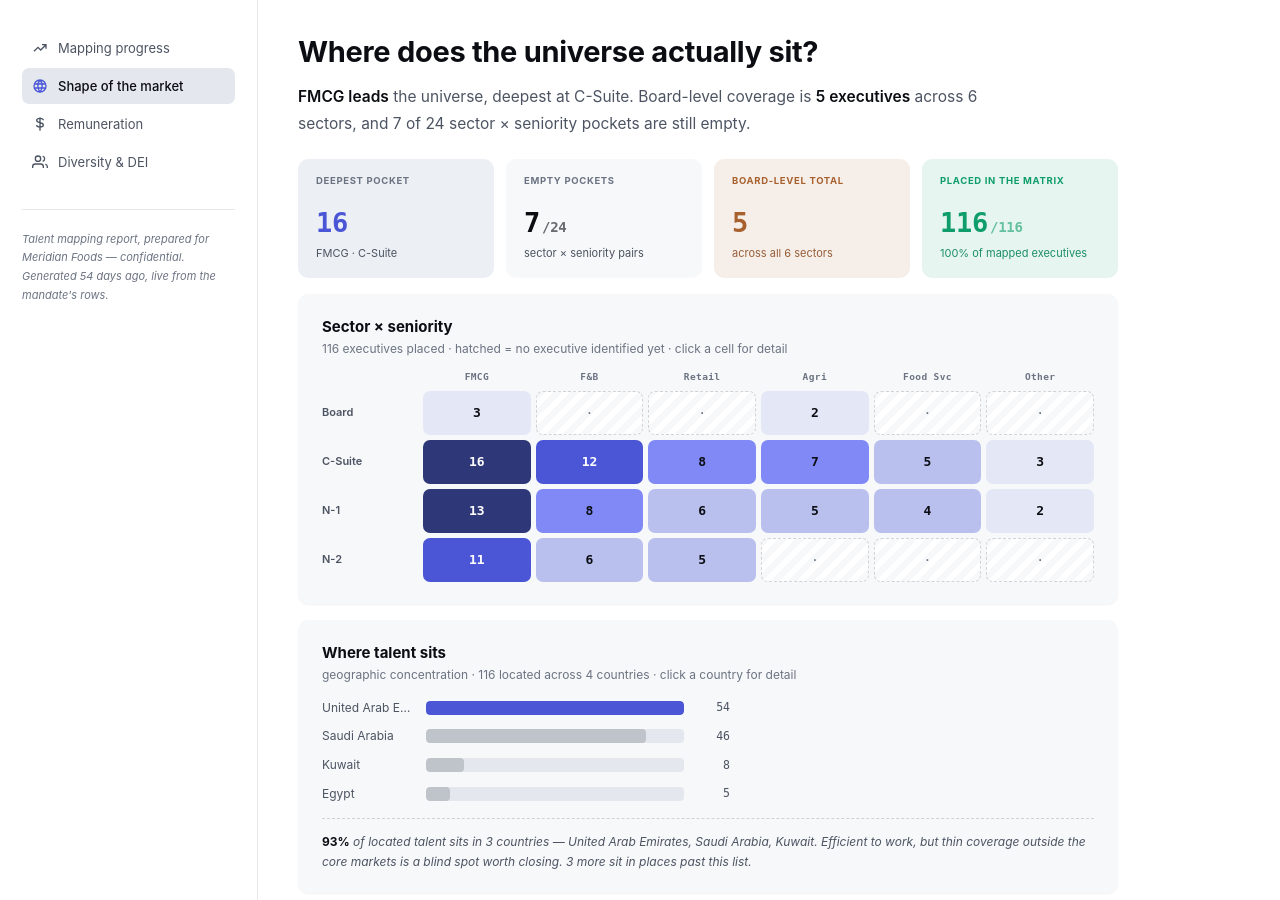
Scenario: ReportsPage › opens a heat-matrix cell as a market slice with its executives
Expected: the text "Sector × seniority" is shown, [322,317,453,336]
Click the button named "FMCG · C-Suite: 16 executives": [477, 462] box [423,440,531,484]
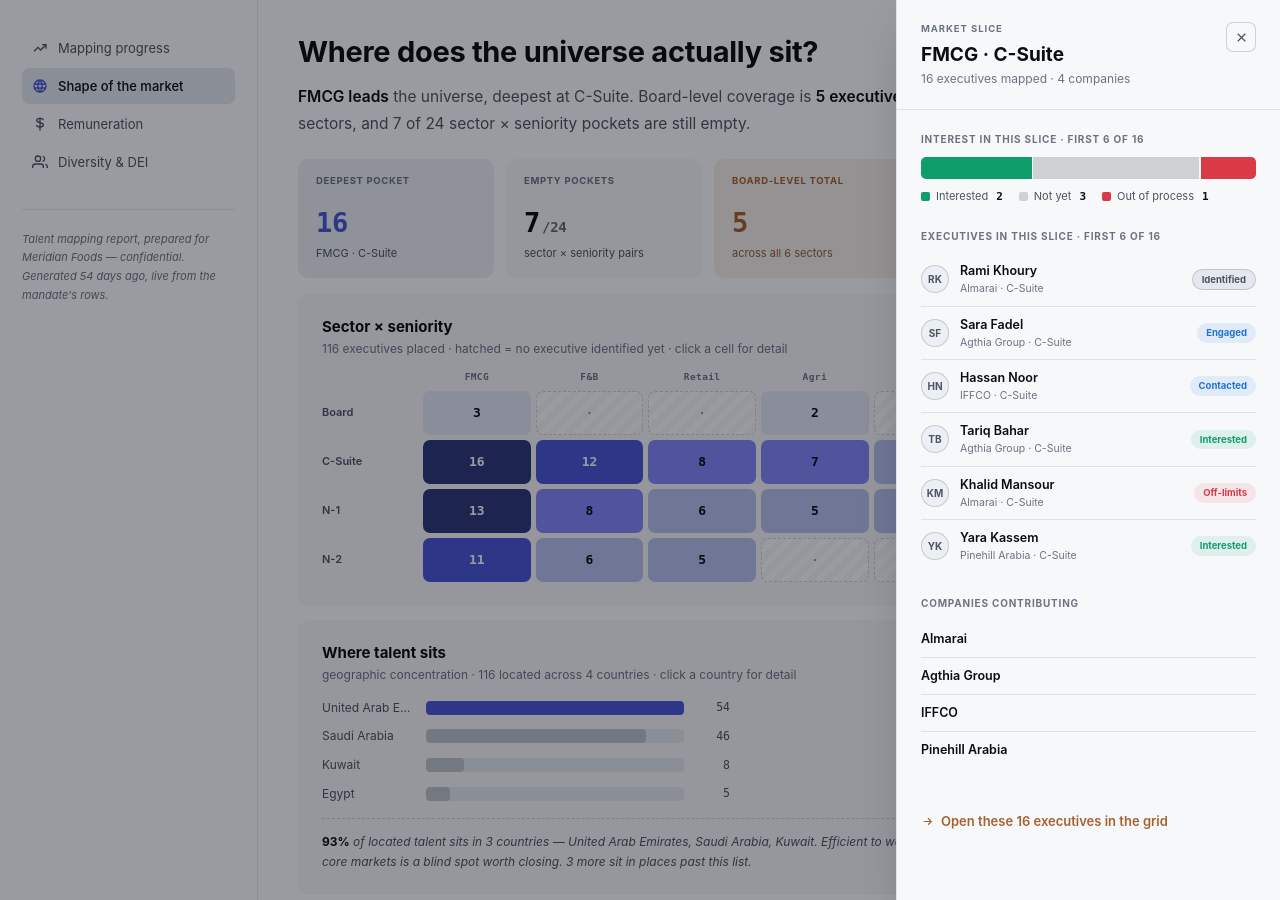
Now the text "Sara Fadel" is shown, box [960,317,1023,332]
Now the text "Almarai" is shown, box [921,621,1256,658]
Now the heading "Executives in this slice · first 6 of 16" is shown, box [921,230,1161,242]
Press Escape
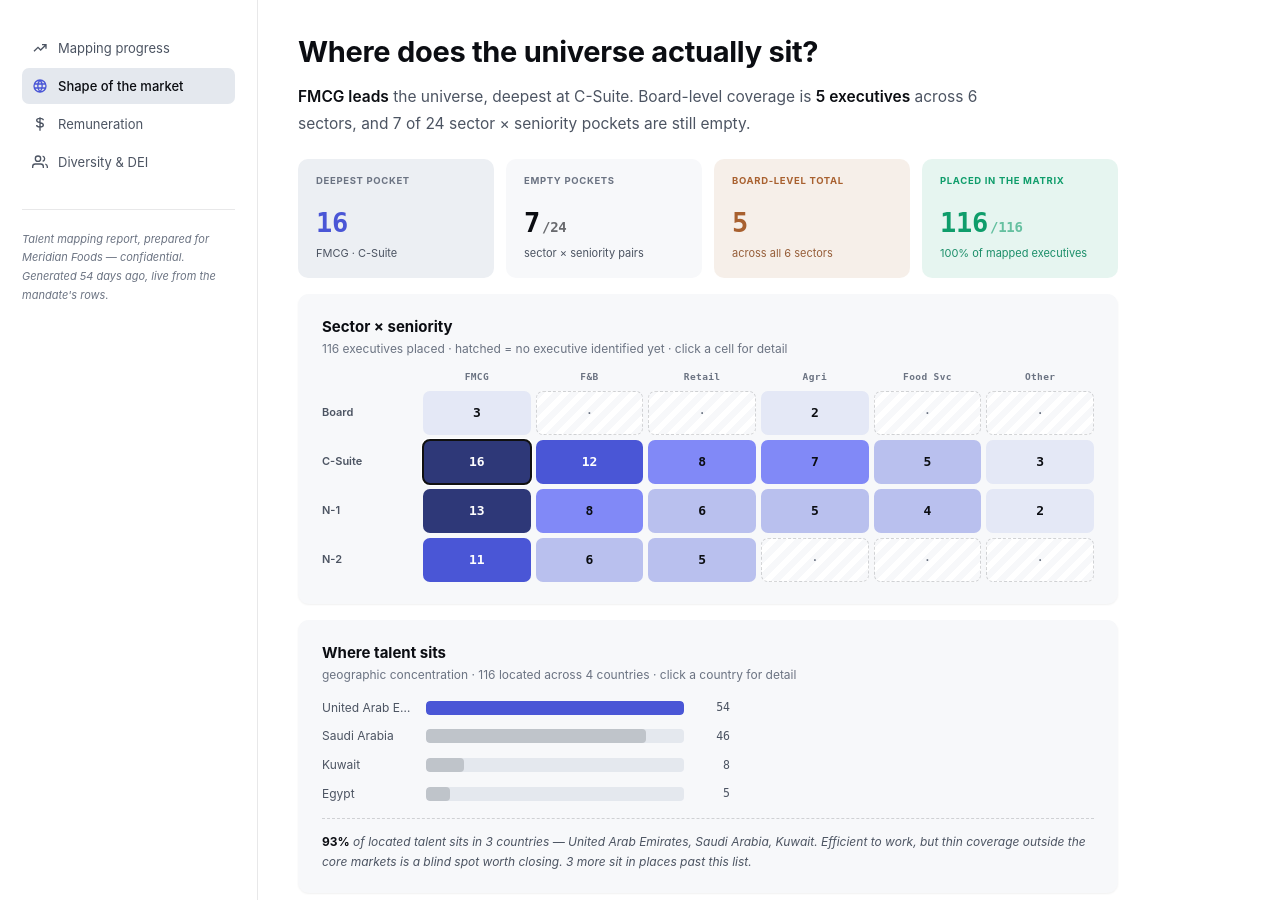
Now the dialog is gone
